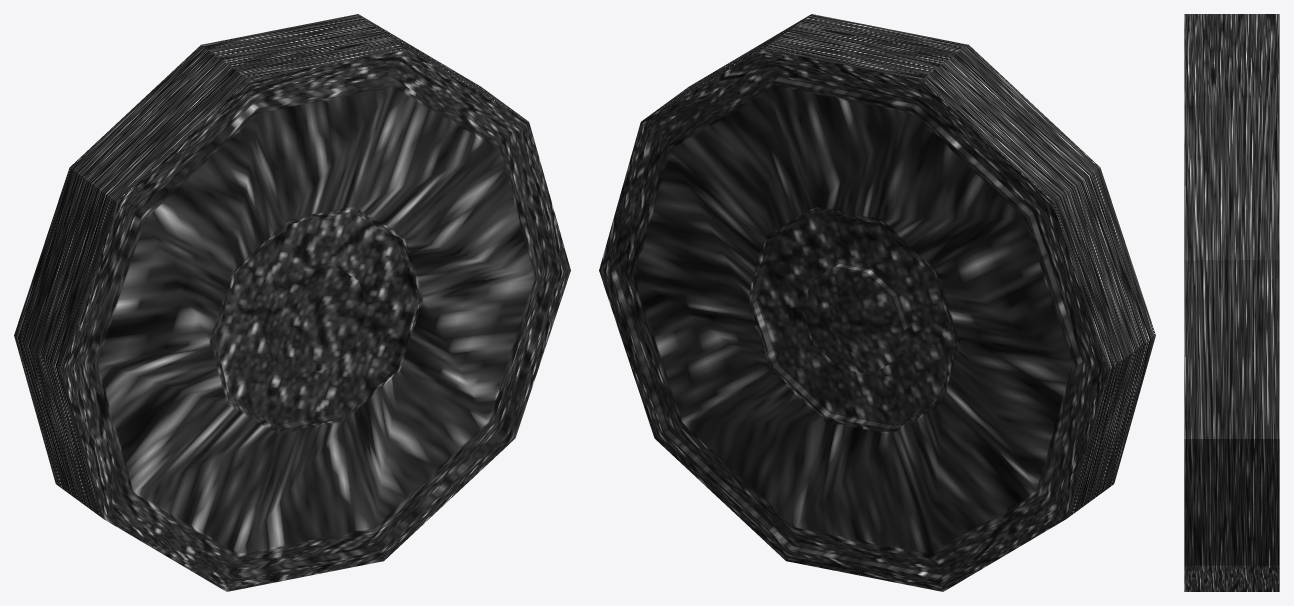
Rendered from cinta2.obj.
3 views of the same model, side by side, from view 1: azimuth 30°, elevation 25°; view 2: azimuth 150°, elevation 25°; view 3: azimuth 270°, elevation 25° (orthographic).
Visible parts, largest first — view 1: pasted__rueda1 group; view 2: pasted__rueda1 group; view 3: pasted__rueda1 group.
Part boxes in pixels (bbox=[...]): pasted__rueda1 group: bbox=[14, 14, 570, 591]; pasted__rueda1 group: bbox=[599, 14, 1155, 591]; pasted__rueda1 group: bbox=[1184, 14, 1279, 591].
Size of the model in its own units: 0.8681 by 0.8379 by 0.1414.
1 material, 1 textured.
